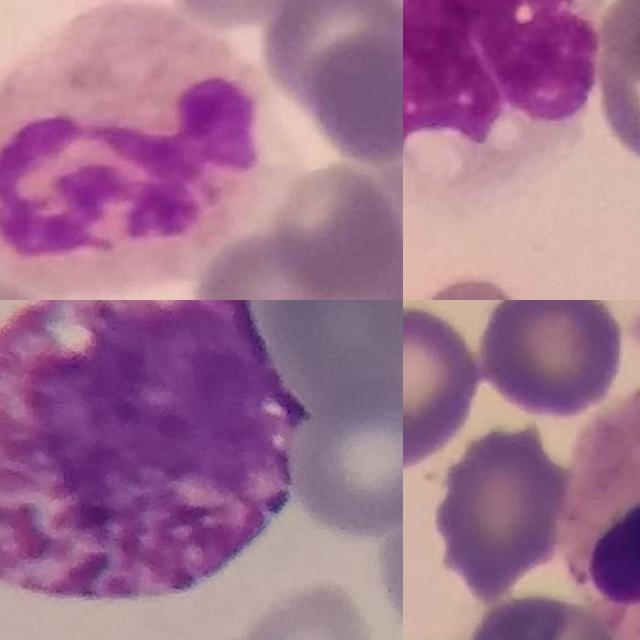Basophil: (0, 300, 306, 602)
Monocyte: (403, 0, 601, 174)
Neutrophil: (0, 2, 294, 300), (568, 369, 640, 640)
